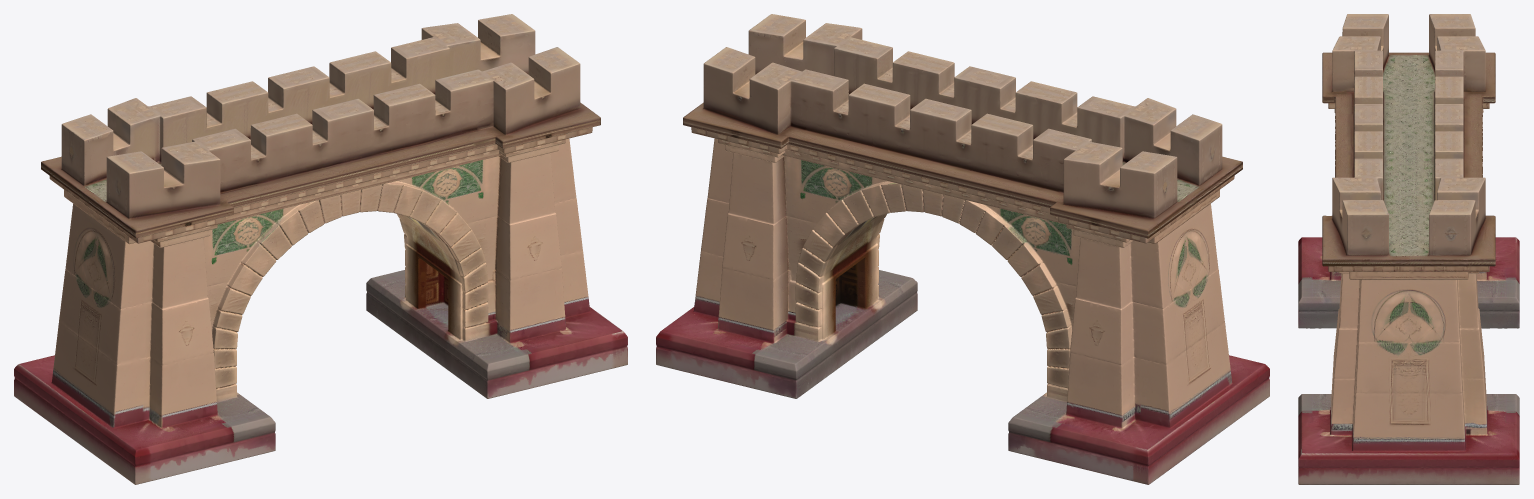
Rendered from Meshy_AI_A_stone_bridge_A_lon_0808145825_texture.glb.
3 views of the same model, side by side, from view 1: azimuth 30°, elevation 25°; view 2: azimuth 150°, elevation 25°; view 3: azimuth 270°, elevation 25° (orthographic). The views are drawn at different scales.
Visible parts, largest first — view 1: mesh_node; view 2: mesh_node; view 3: mesh_node.
Part boxes in pixels (x1,y1,x2,y2): mesh_node: (14, 14, 627, 484); mesh_node: (656, 14, 1269, 484); mesh_node: (1298, 14, 1519, 484).
Bounding box in the file's own units: 1.9 × 1.06 × 0.8108.
Materials: 1 (1 with a texture image).
